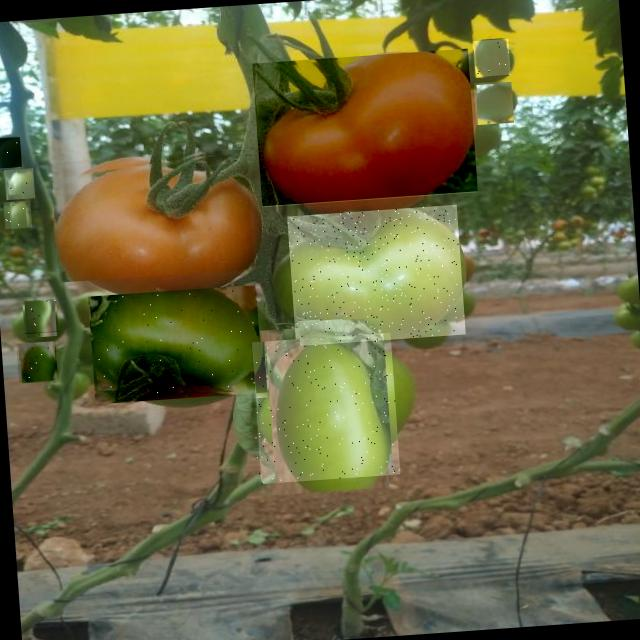Ripe Tomato: (252, 48, 478, 210), (50, 150, 254, 282)
Unripe Tomato: (286, 204, 466, 346), (248, 332, 400, 484), (88, 285, 262, 404), (470, 80, 513, 125), (15, 340, 58, 382), (472, 39, 510, 77), (22, 300, 58, 336), (4, 168, 35, 200), (3, 200, 32, 229), (0, 136, 21, 168)
